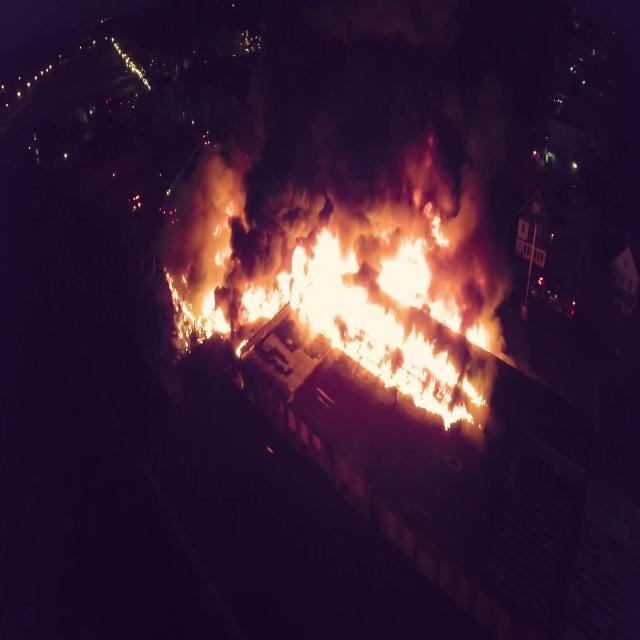Fire: (410, 365, 442, 418), (392, 269, 428, 311), (363, 312, 393, 358), (432, 299, 462, 336), (316, 284, 342, 320), (294, 266, 307, 310), (466, 378, 485, 404), (451, 406, 472, 426), (210, 308, 226, 334), (473, 334, 493, 352)
Smoke: (308, 88, 439, 181)
